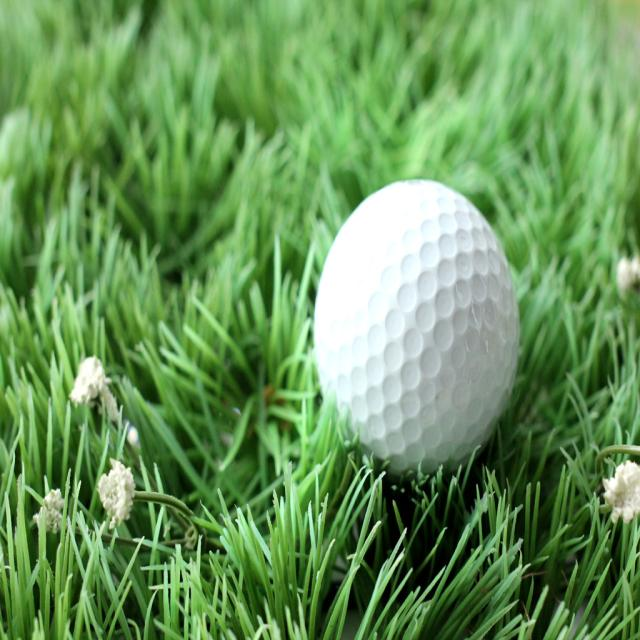Ball: (314, 180, 520, 474)
